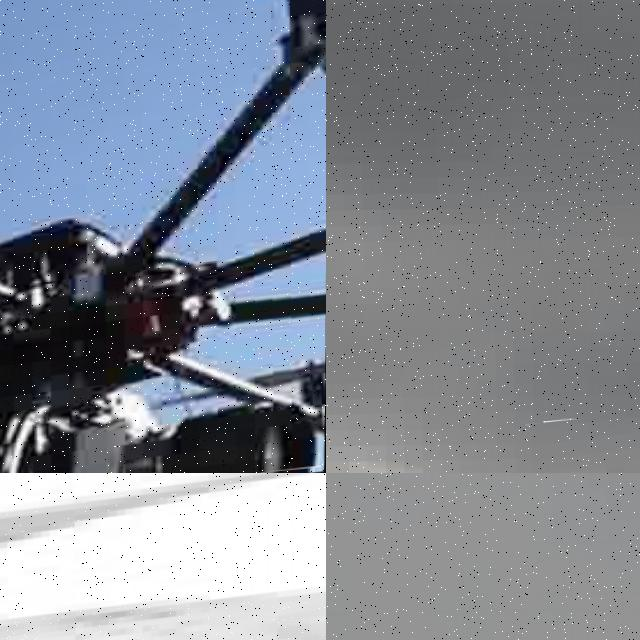drone: (0, 0, 326, 473), (0, 473, 326, 640)
